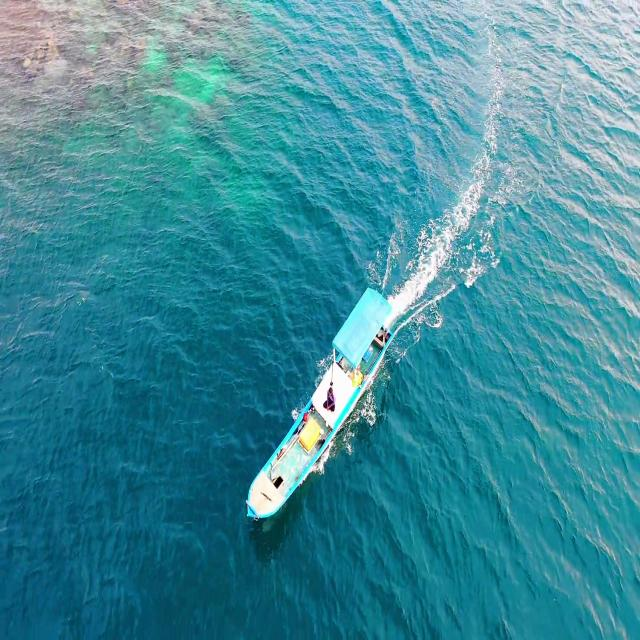ship: (240, 274, 395, 528)
